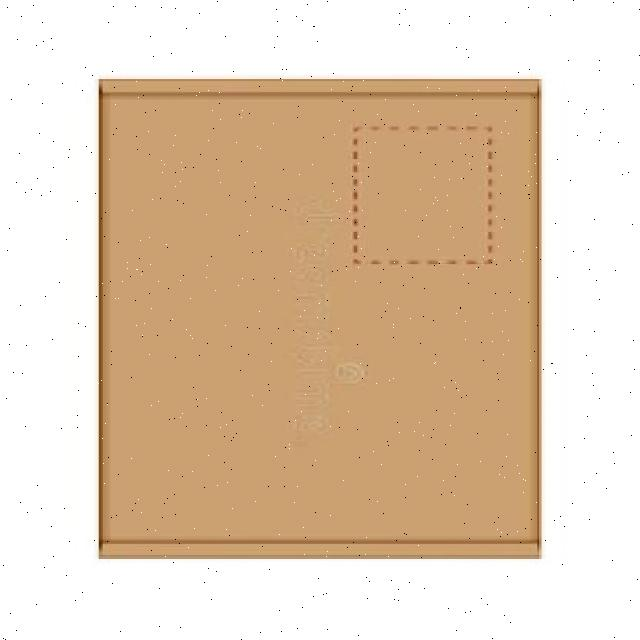normal: (94, 70, 552, 568)
